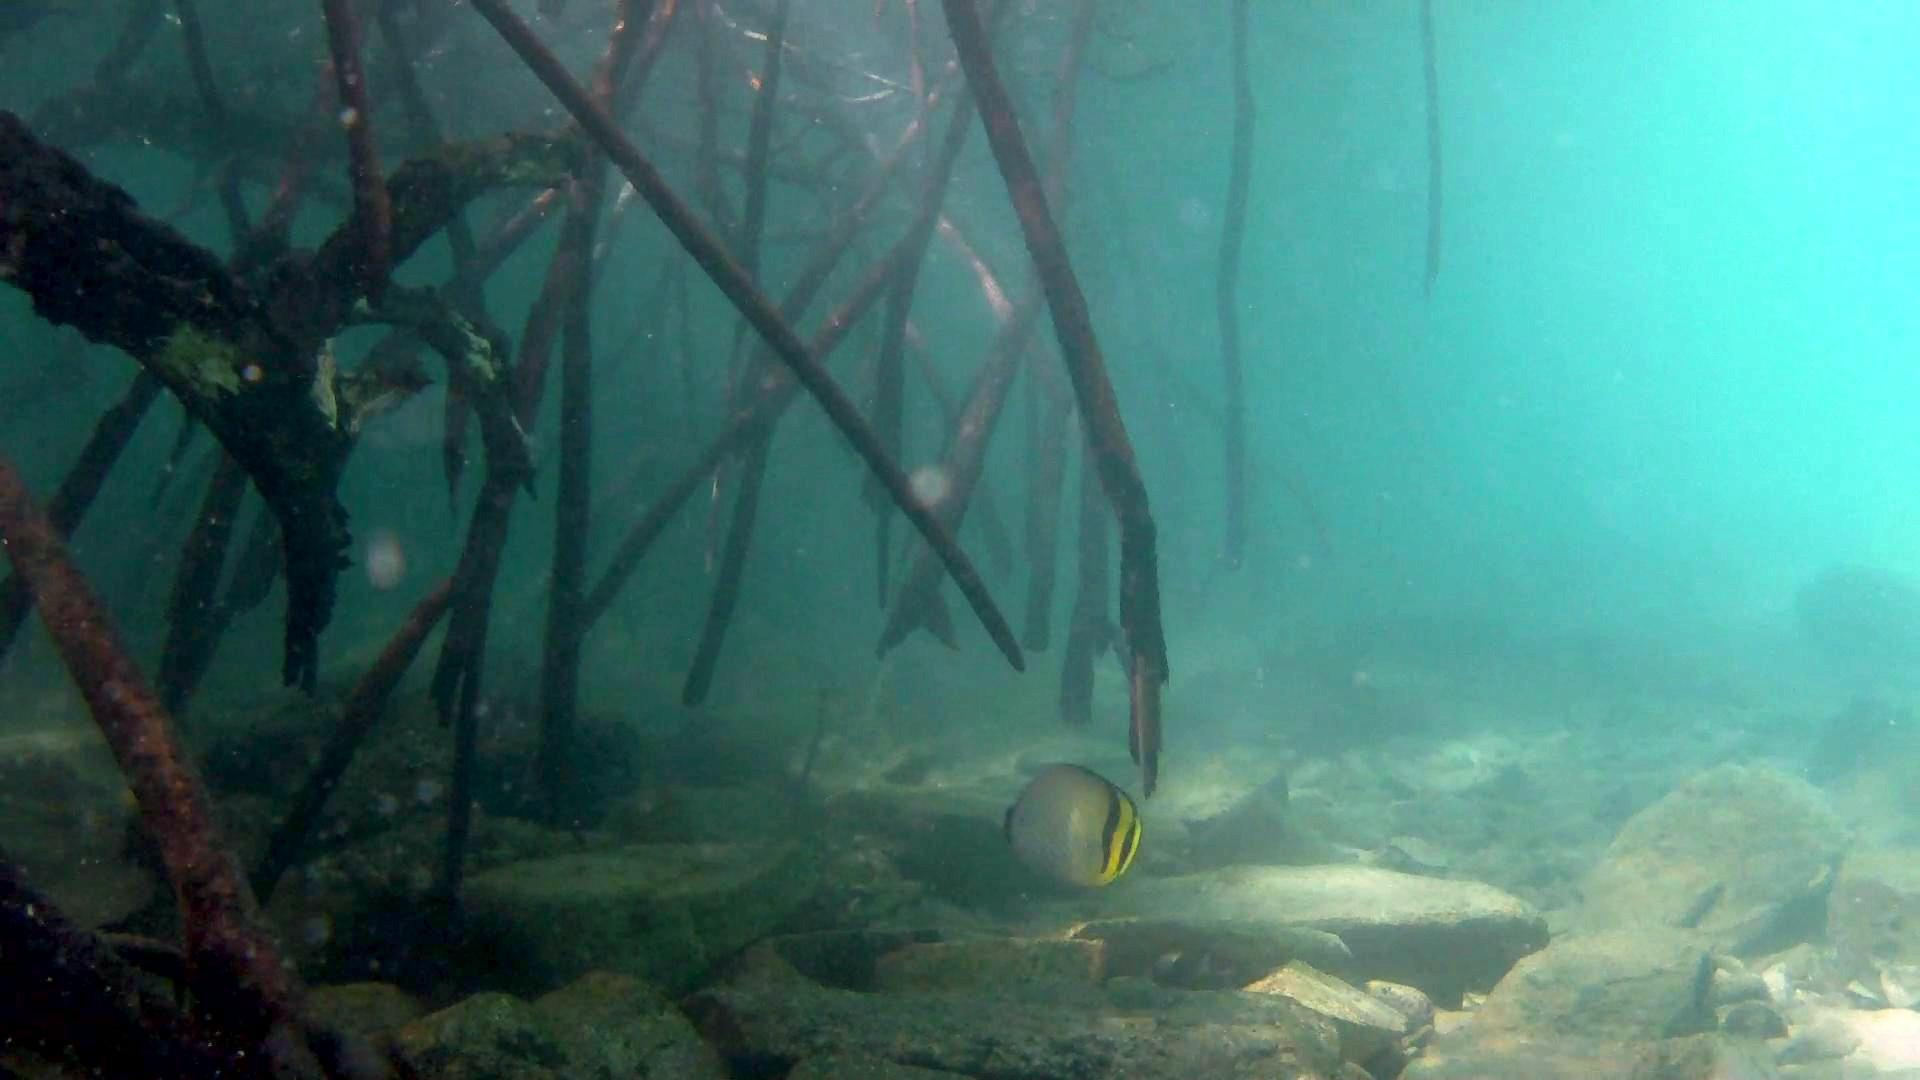chaetodon vagabundus: (981, 758, 1150, 893)
